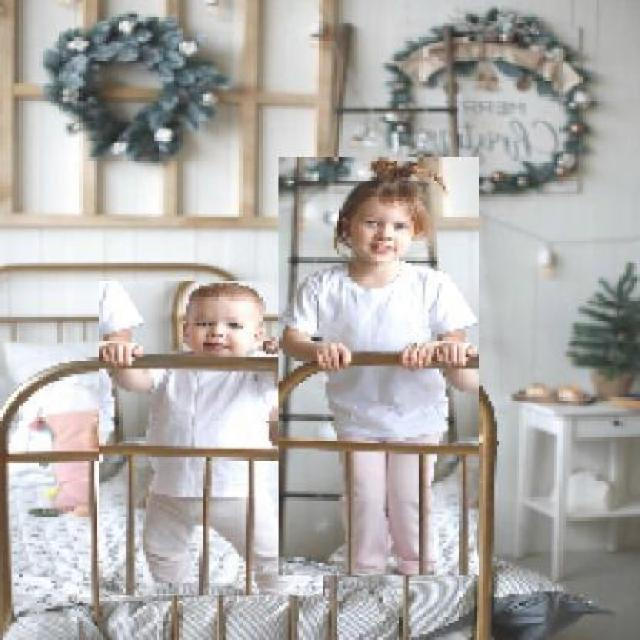child: (277, 157, 480, 577), (98, 280, 324, 597)
